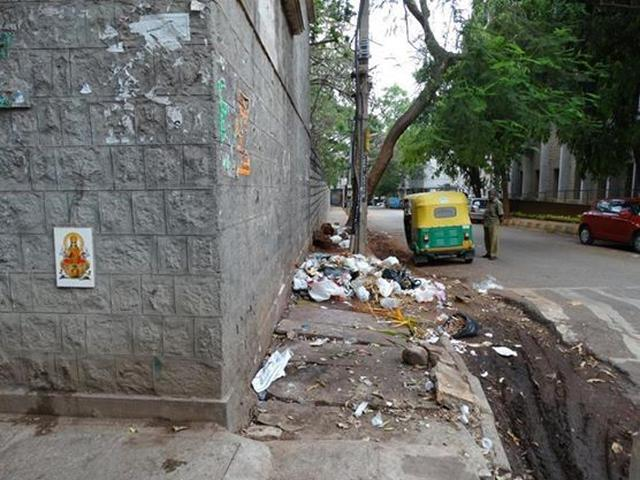garbage: (306, 250, 417, 311)
